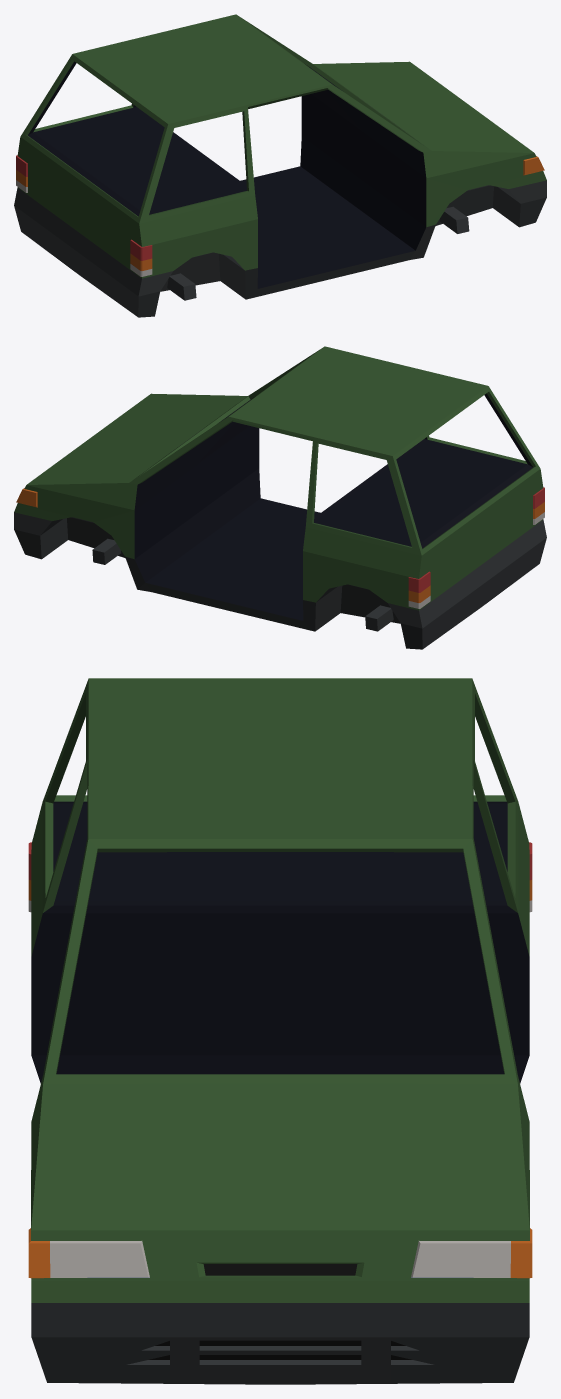
The model's file is Car_Body.obj.
The picture shows the model from 3 angles, top to bottom: view 1: azimuth 30°, elevation 25°; view 2: azimuth 150°, elevation 25°; view 3: azimuth 270°, elevation 25°; orthographic projection. The views are drawn at different scales.
Parts seen in each view (by area): view 1: car_body; view 2: car_body; view 3: car_body.
Boxes of the visible parts, bbox=[...] form: car_body: bbox=[14, 14, 546, 317]; car_body: bbox=[14, 346, 546, 649]; car_body: bbox=[28, 678, 532, 1384].
Bounding box in the file's own units: 7.5 × 3.28 × 4.01.
